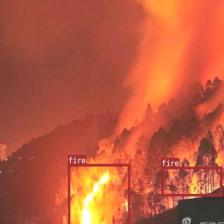fire: (68, 163, 130, 224), (161, 166, 222, 196)
